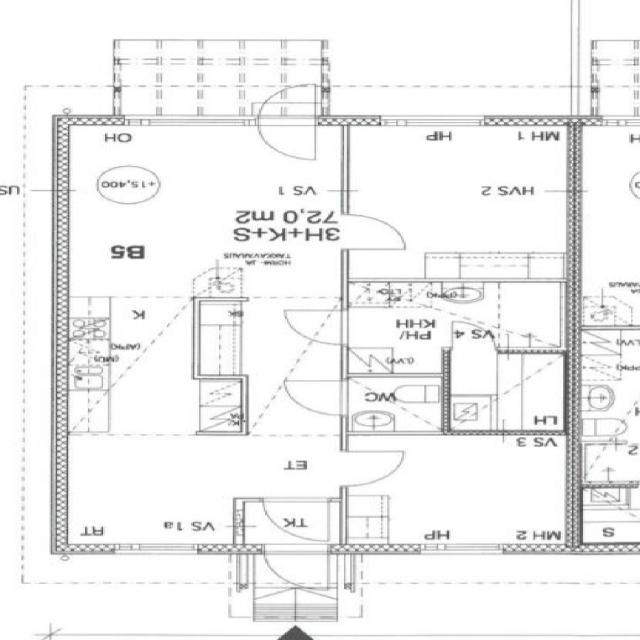door: (264, 544, 328, 592), (263, 498, 328, 540), (258, 81, 314, 126), (258, 116, 314, 160), (342, 452, 404, 486), (285, 381, 347, 415), (286, 311, 348, 344), (342, 215, 403, 248), (453, 322, 495, 353)
